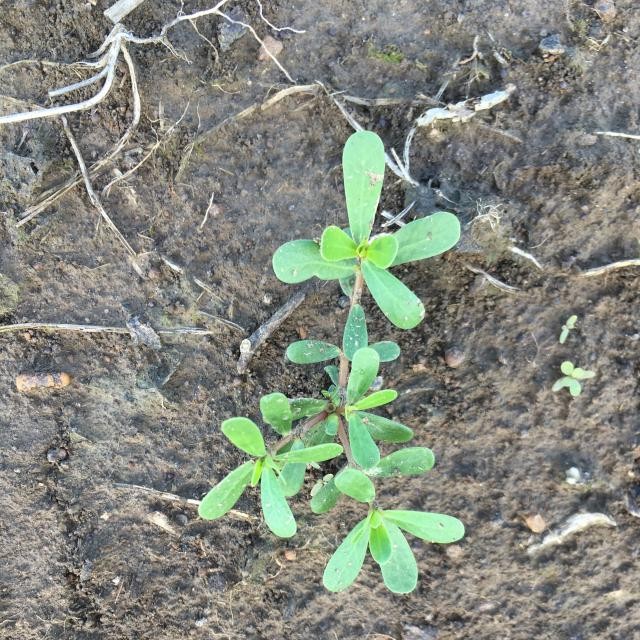Purslane: (198, 131, 465, 594), (552, 362, 595, 396)
